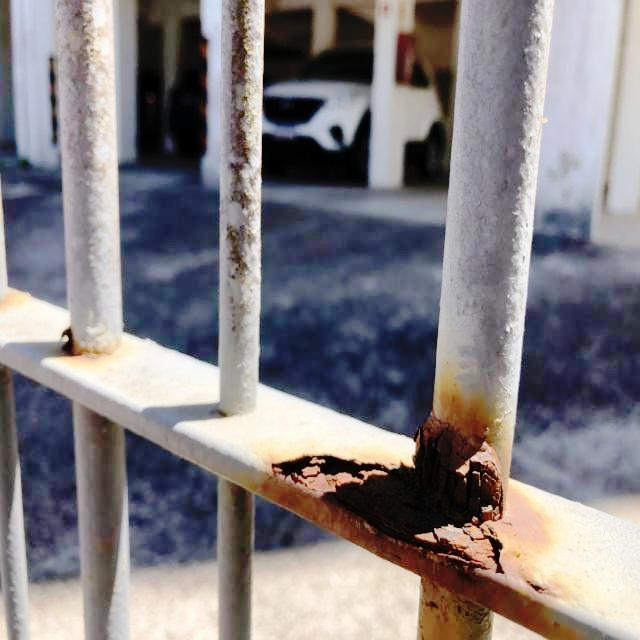Corrosion: (257, 382, 587, 640), (57, 320, 125, 361)
